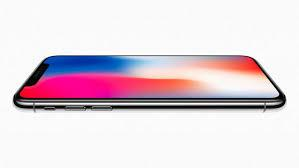Smartphone: (12, 49, 290, 116)
